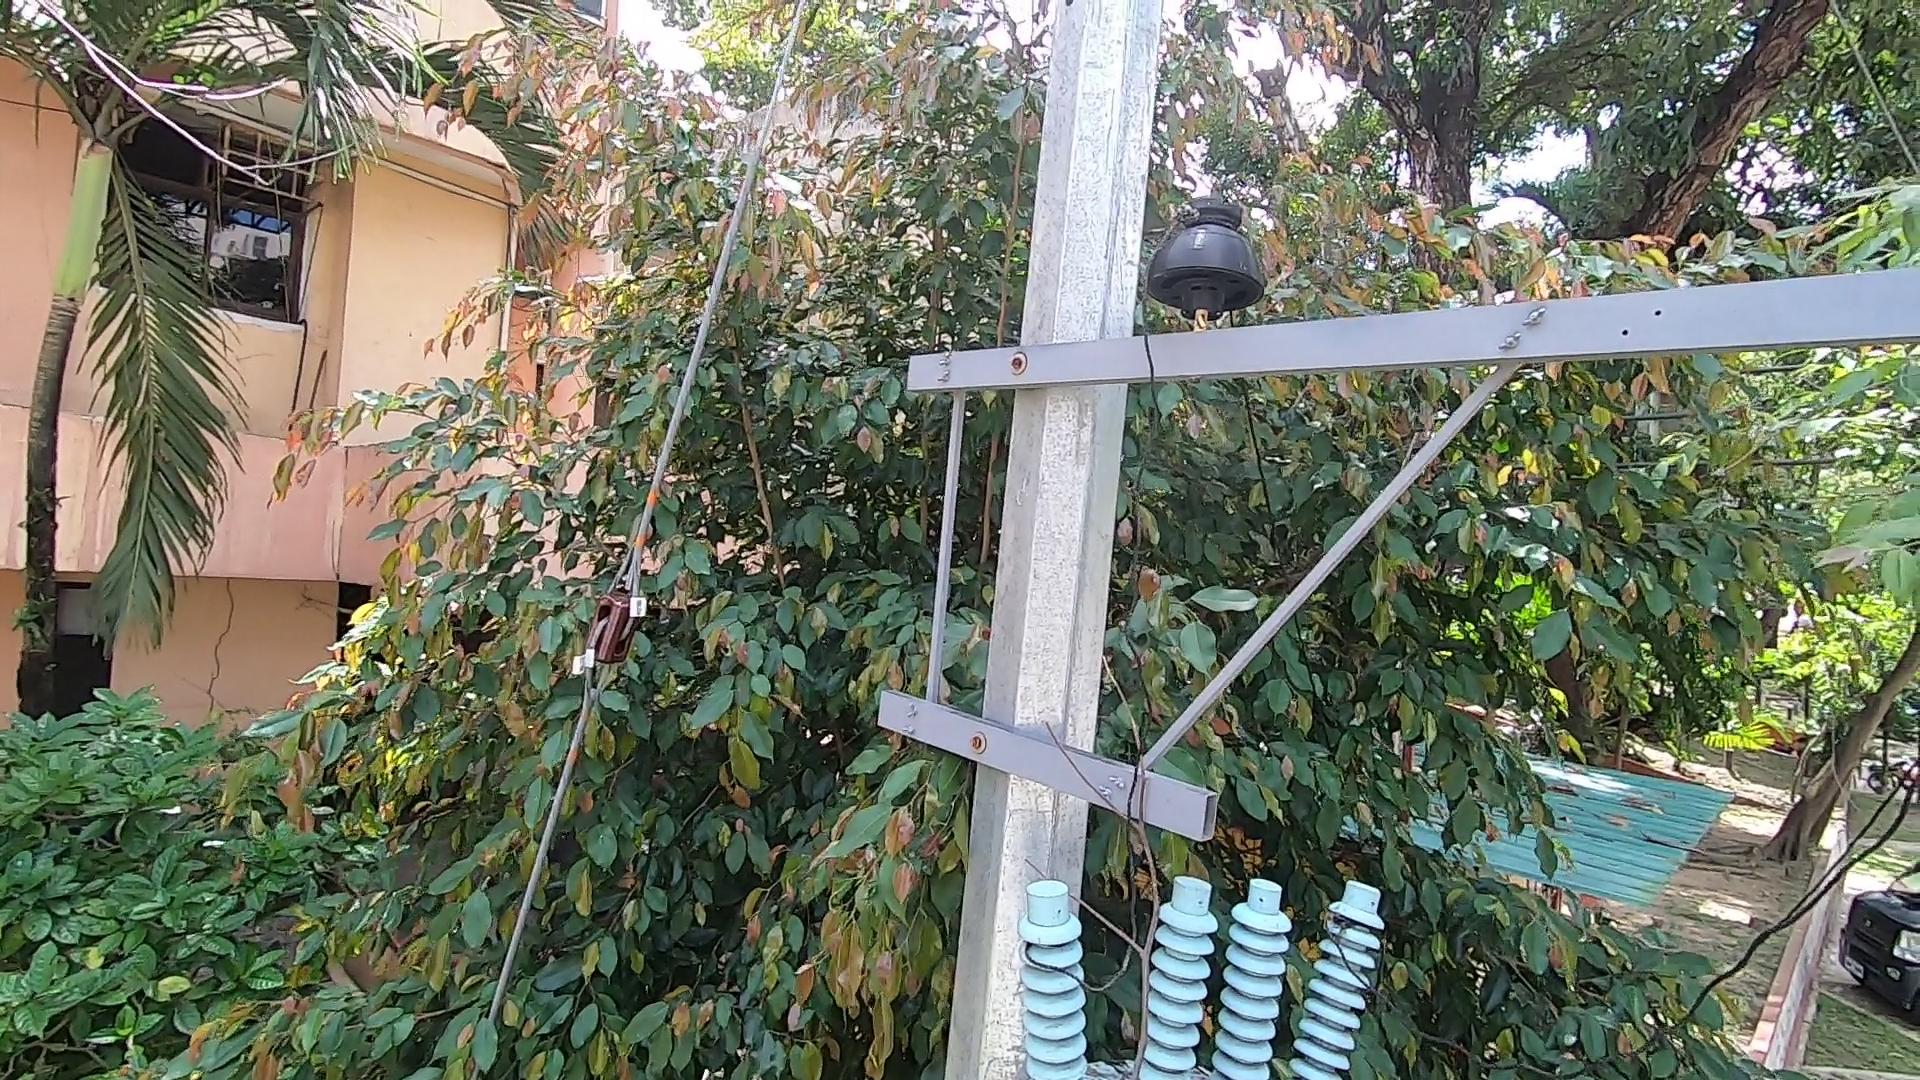tree branch: (1035, 607, 1224, 1080)
